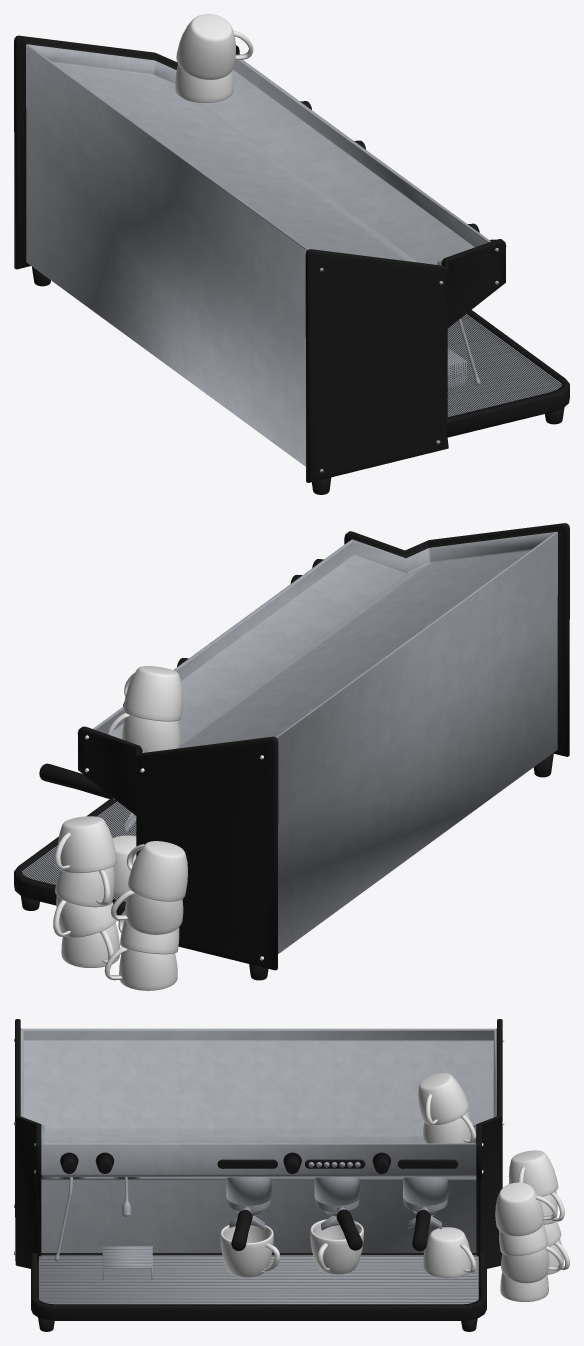
The model's file is coffee_machine.glb.
The picture shows the model from 3 angles, top to bottom: view 1: azimuth 30°, elevation 25°; view 2: azimuth 150°, elevation 25°; view 3: azimuth 270°, elevation 25°; orthographic projection. The views are drawn at different scales.
Visible parts, largest first — view 1: Cube.002, Cube, Cube.001, Cylinder.015, Cylinder.022; view 2: Cube.002, Cylinder.017, Cylinder.020, Cylinder.015, Cube, Cube.001, Cylinder.001, Cylinder.014, Cylinder.022; view 3: Cube.002, Cube.001, Cube, Cylinder.020, Cylinder.001, Cylinder.015, Cylinder.017, Cylinder.012, Cylinder.014, Cylinder.013, Cylinder.010, Cylinder (+6 smaller).
Boxes of the visible parts, bbox=[...] form: Cube.002: bbox=[14, 35, 506, 482]; Cube: bbox=[447, 310, 569, 437]; Cube.001: bbox=[447, 314, 561, 416]; Cylinder.015: bbox=[175, 14, 253, 102]; Cylinder.022: bbox=[32, 266, 564, 494]; Cube.002: bbox=[77, 523, 569, 970]; Cylinder.017: bbox=[104, 841, 187, 990]; Cylinder.020: bbox=[53, 816, 119, 967]; Cylinder.015: bbox=[107, 666, 182, 752]; Cube: bbox=[14, 799, 136, 920]; Cube.001: bbox=[22, 801, 136, 901]; Cylinder.001: bbox=[39, 763, 136, 832]; Cylinder.014: bbox=[112, 835, 136, 896]; Cylinder.022: bbox=[21, 752, 553, 980]; Cube.002: bbox=[15, 1019, 502, 1268]; Cube.001: bbox=[39, 1255, 478, 1304]; Cube: bbox=[31, 1253, 486, 1320]; Cylinder.020: bbox=[495, 1182, 563, 1301]; Cylinder.001: bbox=[227, 1198, 447, 1251]; Cylinder.015: bbox=[418, 1073, 476, 1143]; Cylinder.017: bbox=[508, 1150, 569, 1274]; Cylinder.012: bbox=[220, 1225, 280, 1277]; Cylinder.014: bbox=[423, 1227, 476, 1277]; Cylinder.013: bbox=[310, 1219, 363, 1274]; Cylinder.010: bbox=[60, 1152, 390, 1173]; Cylinder: bbox=[226, 1177, 271, 1205].
Size of the model in its own units: 6.03 by 5.19 by 12.37.
Materials: 5 (3 with a texture image).
